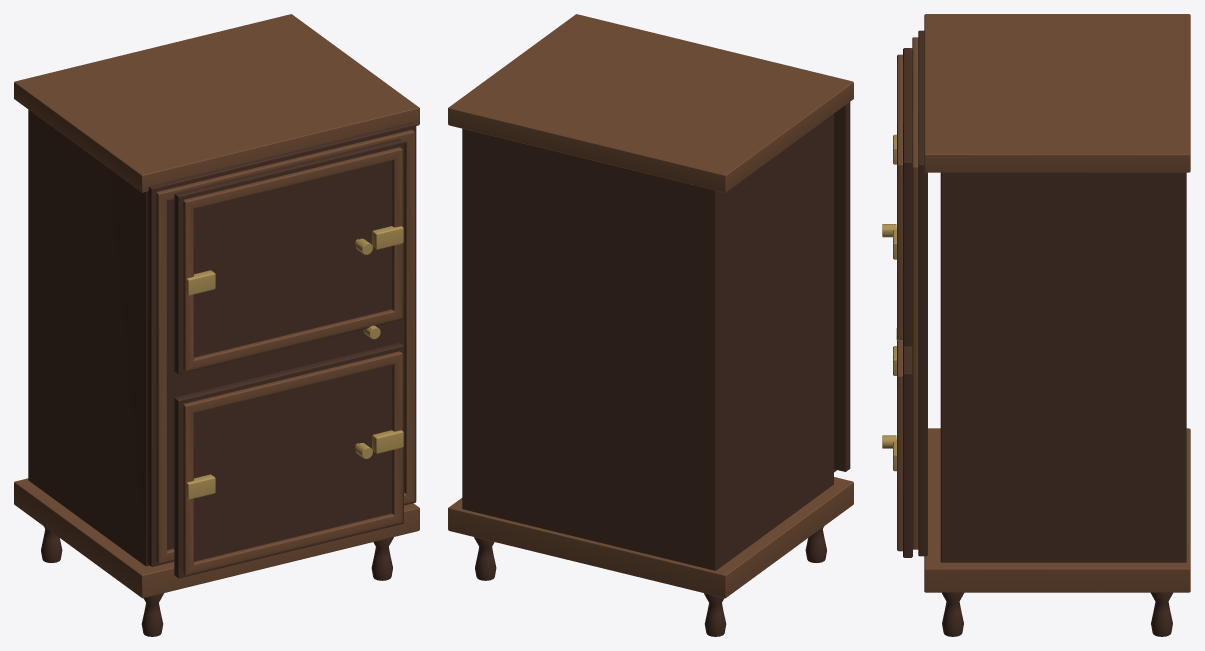
File: rpg-mansion-icebox-01.glb
3 views of the same model, side by side, from view 1: azimuth 30°, elevation 25°; view 2: azimuth 150°, elevation 25°; view 3: azimuth 270°, elevation 25° (orthographic). The views are drawn at different scales.
Parts seen in each view (by area): view 1: rpg-mansion-icebox-01; view 2: rpg-mansion-icebox-01; view 3: rpg-mansion-icebox-01.
Boxes of the visible parts, x1,y1,x2,y2 form: rpg-mansion-icebox-01: (14, 14, 419, 636); rpg-mansion-icebox-01: (448, 14, 853, 636); rpg-mansion-icebox-01: (882, 14, 1190, 636).
Size of the model in its own units: 0.8 by 1.3 by 0.74.
